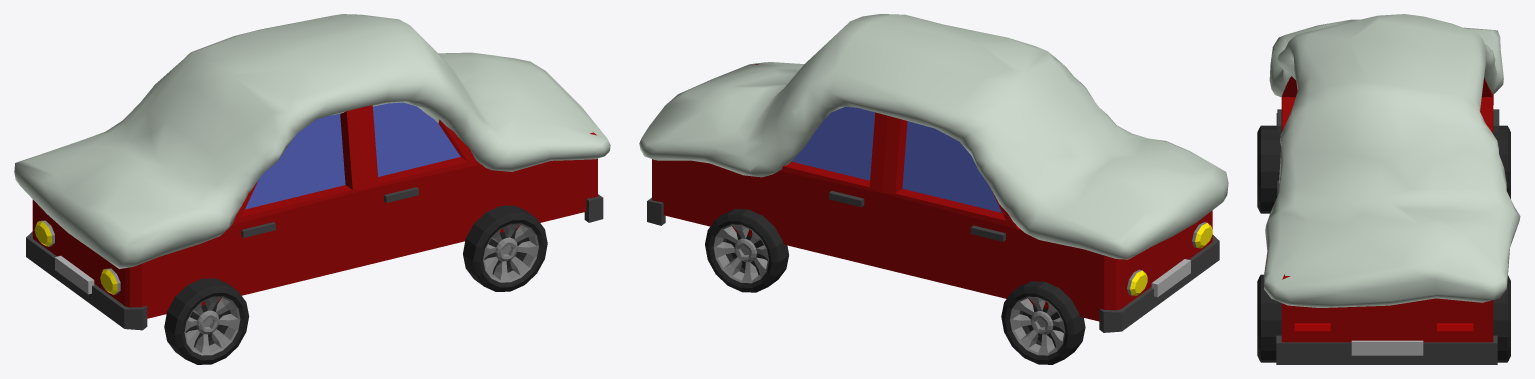
The model's file is Car-5.fbx.
The picture shows the model from 3 angles, left to right: view 1: azimuth 30°, elevation 25°; view 2: azimuth 150°, elevation 25°; view 3: azimuth 270°, elevation 25°; orthographic projection. The views are drawn at different scales.
Visible parts, largest first — view 1: Car-5; view 2: Car-5; view 3: Car-5.
Boxes of the visible parts, <box> form: Car-5: <box>14,14,610,364</box>; Car-5: <box>639,14,1228,364</box>; Car-5: <box>1257,14,1520,364</box>.
Size of the model in its own units: 12.35 by 5.59 by 5.46.
